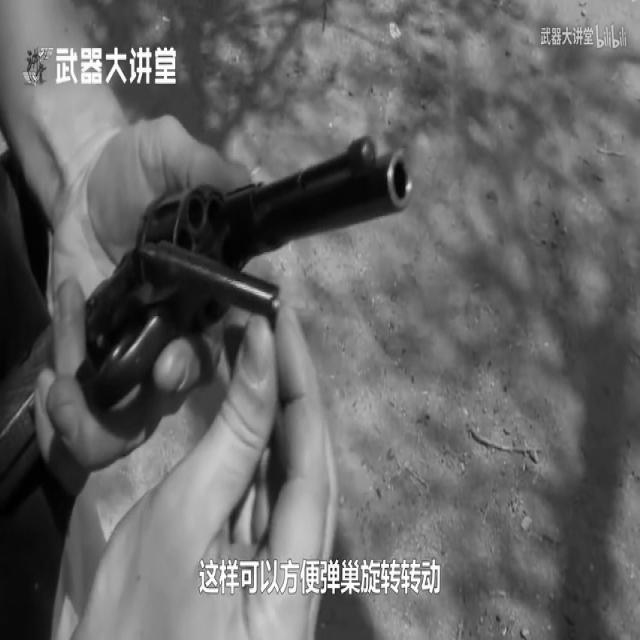Short-Gun: (0, 0, 463, 544)
